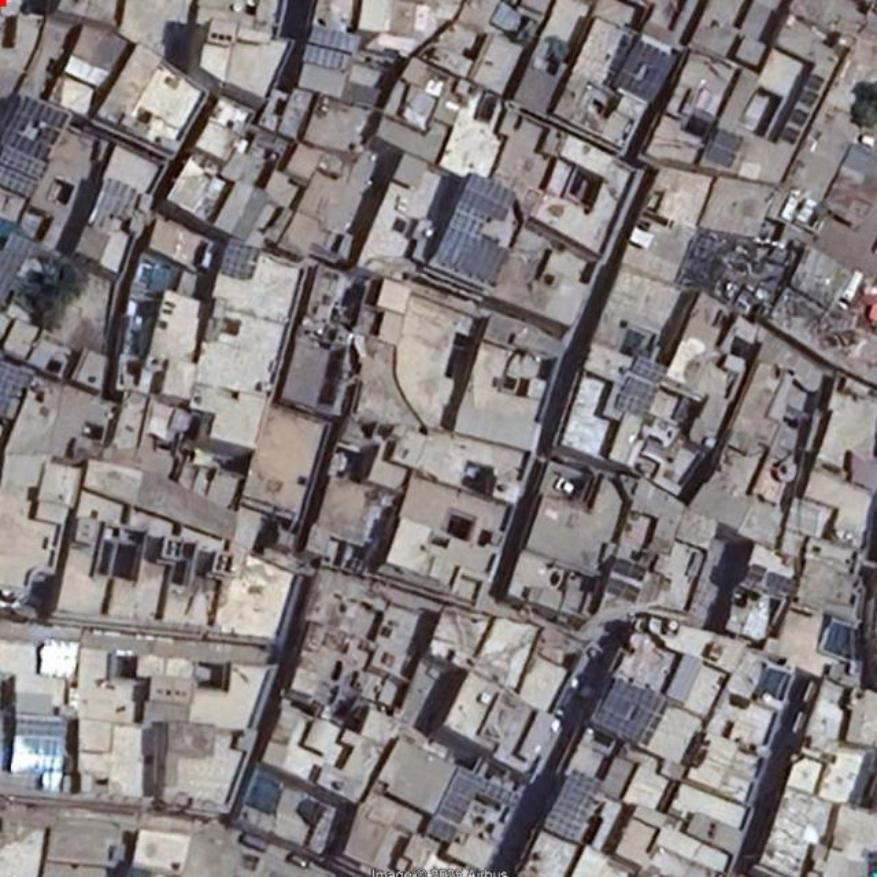Solarpanel: (434, 170, 527, 285), (0, 92, 85, 202), (440, 769, 523, 842), (594, 680, 665, 744), (543, 767, 603, 840), (611, 39, 679, 101), (616, 356, 670, 420), (88, 177, 138, 234), (301, 27, 361, 70), (9, 736, 67, 774), (0, 360, 35, 418), (220, 238, 259, 276), (705, 127, 742, 167)
